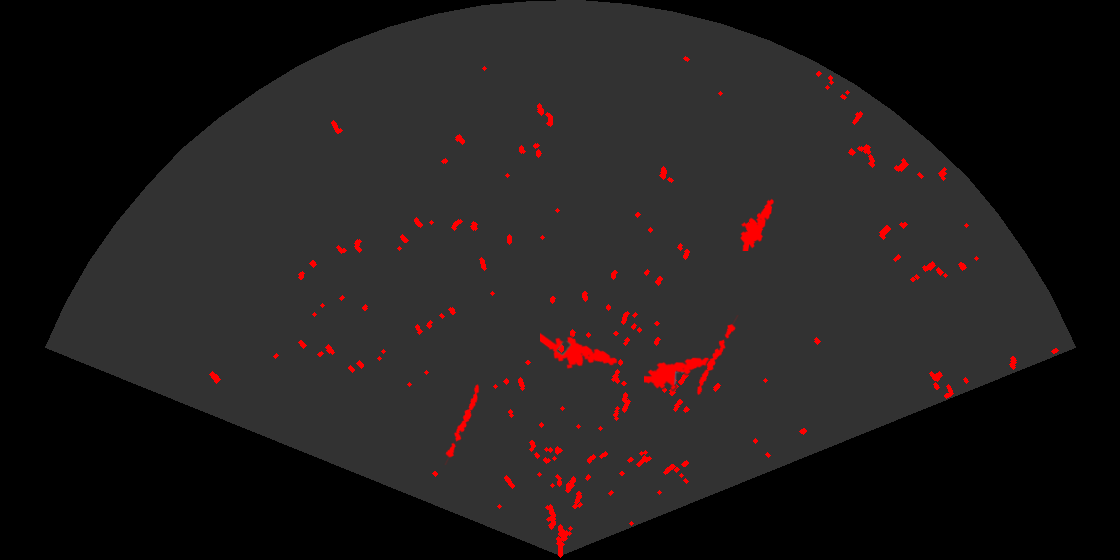chain: (695, 315, 740, 397), (443, 382, 481, 465)
frogman: (540, 331, 619, 371), (644, 356, 710, 392), (739, 197, 775, 251)
